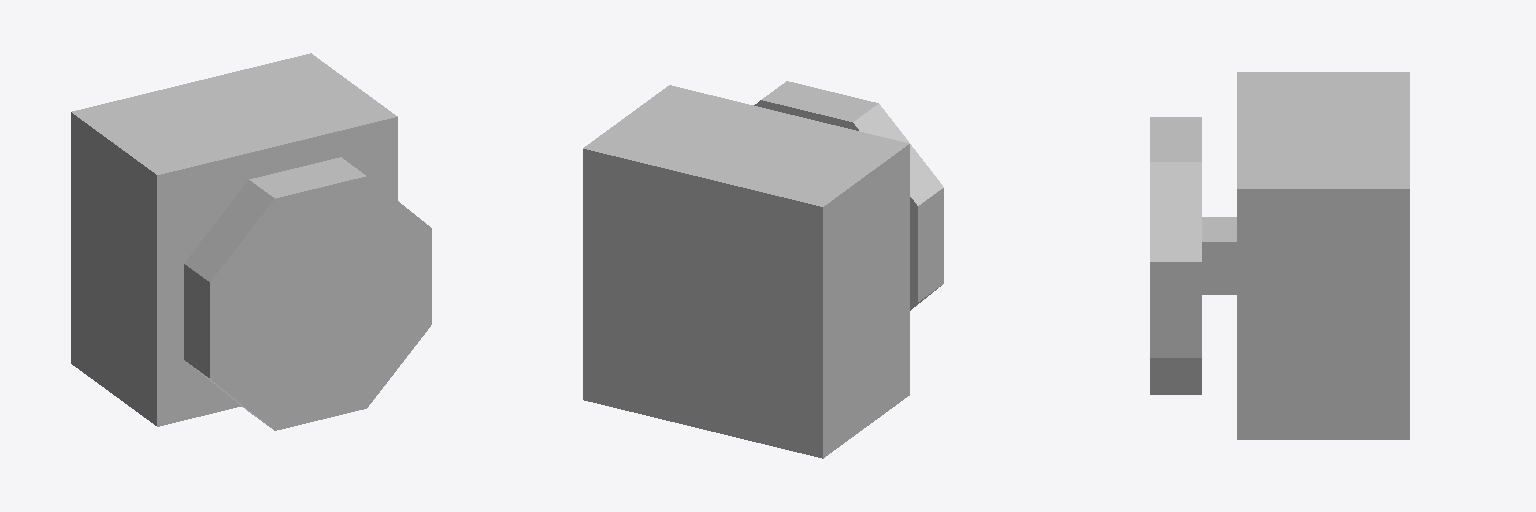
Rendered from dynamo.obj.
3 renders of one model, left to right at view 1: azimuth 30°, elevation 25°; view 2: azimuth 150°, elevation 25°; view 3: azimuth 270°, elevation 25°, orthographic.
Visible parts, largest first — view 1: base, wheel_top, wheel_sides; view 2: base, wheel_sides, wheel_top; view 3: base, wheel_sides.
Boxes of the visible parts, <box> form: base: <box>71,53,397,426</box>; wheel_top: <box>210,176,431,430</box>; wheel_sides: <box>184,157,365,427</box>; base: <box>583,85,909,458</box>; wheel_sides: <box>762,81,943,310</box>; wheel_top: <box>754,100,917,308</box>; base: <box>1237,72,1409,439</box>; wheel_sides: <box>1150,117,1236,394</box>.
Bounding box in the file's own units: 1 × 1 × 0.9375.